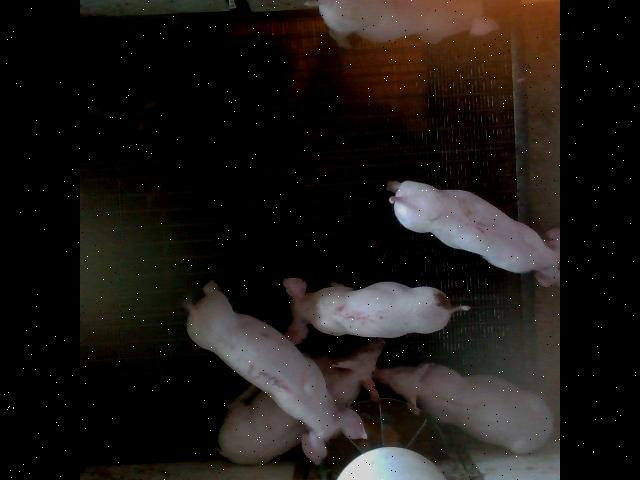pig-3: (186, 280, 366, 462)
pig-5: (284, 278, 469, 344)
